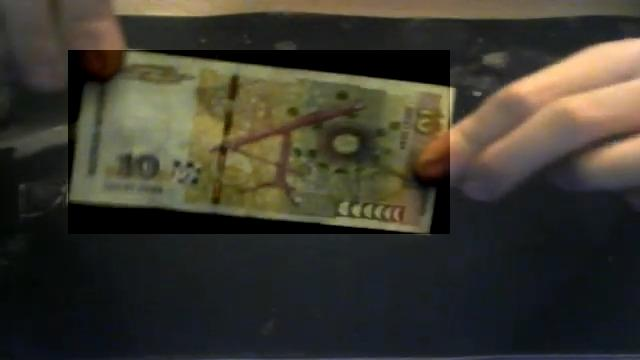10leva: (68, 50, 450, 234)
